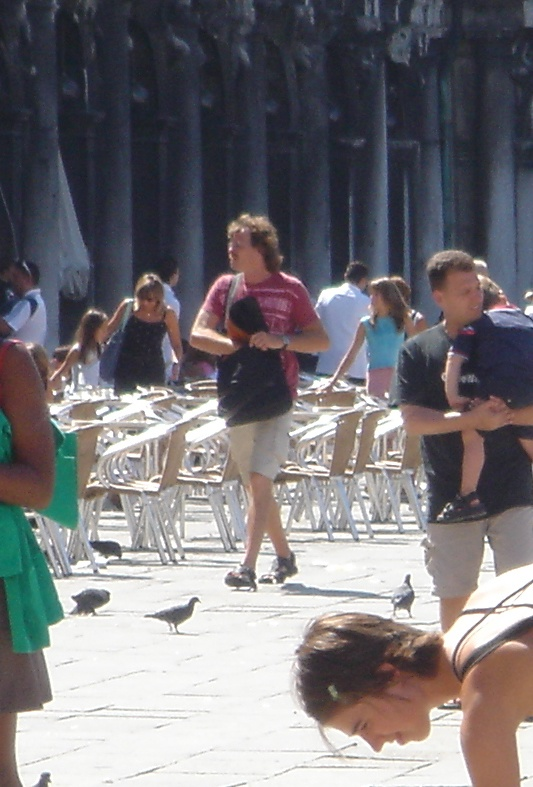person: (192, 209, 327, 591)
